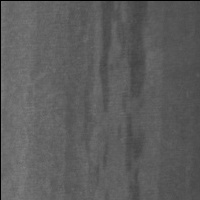inclusion: (101, 1, 148, 200), (116, 97, 146, 200)
